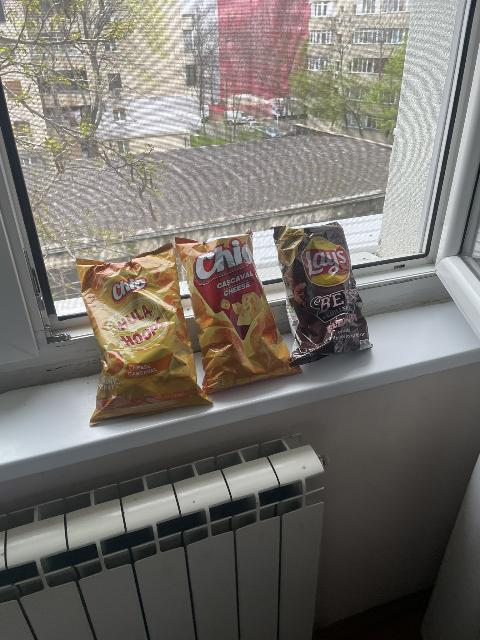Chio Cascaval 125g: (174, 226, 303, 394)
Chio Hula Hoops Cheese 70g: (75, 242, 213, 427)
Lays Beef Grilled Ribs 125g: (267, 221, 374, 368)
